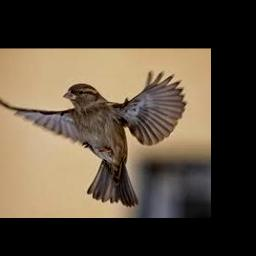Sparrow: (0, 70, 186, 206)
